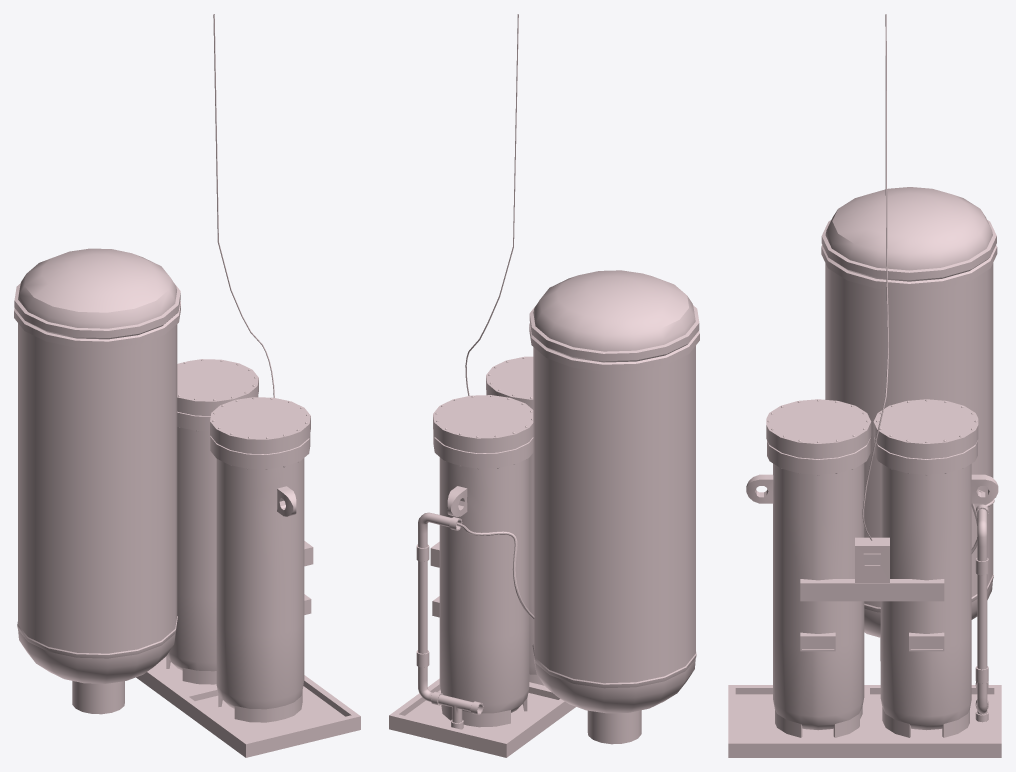
Rendered from Generator.fbx.
3 views of the same model, side by side, from view 1: azimuth 30°, elevation 25°; view 2: azimuth 150°, elevation 25°; view 3: azimuth 270°, elevation 25° (orthographic). The views are drawn at different scales.
Parts seen in each view (by area): view 1: Generateur; view 2: Generateur; view 3: Generateur.
Part boxes in pixels (left/top/right/bottom): Generateur: left=14, top=14, right=360, bottom=757; Generateur: left=389, top=14, right=699, bottom=757; Generateur: left=728, top=14, right=1001, bottom=757.
Bounding box in the file's own units: 429 × 1112 × 389.
